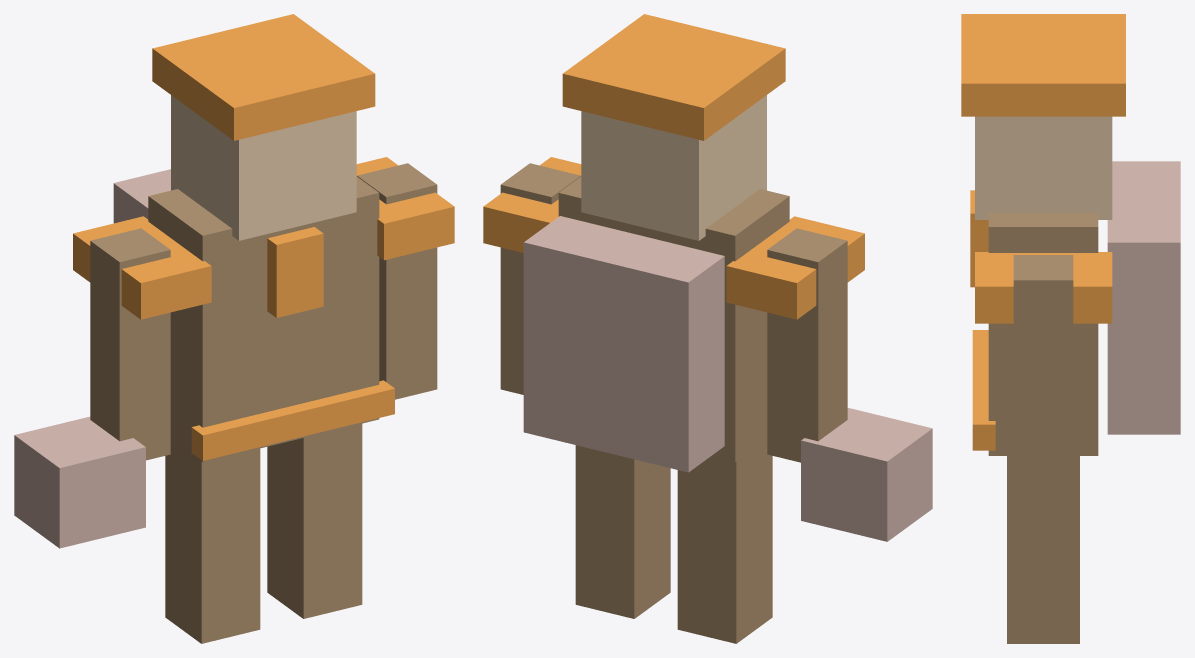
Rendered from 17_pax_frostrelay_fixer_near_catalog.glb.
3 views of the same model, side by side, from view 1: azimuth 30°, elevation 25°; view 2: azimuth 150°, elevation 25°; view 3: azimuth 270°, elevation 25° (orthographic).
Parts seen in each view (by area): view 1: Pax Frostrelay, Fixer near Catalog; view 2: Pax Frostrelay, Fixer near Catalog; view 3: Pax Frostrelay, Fixer near Catalog.
Boxes of the visible parts, x1,y1,x2,y2 form: Pax Frostrelay, Fixer near Catalog: [14, 14, 454, 643]; Pax Frostrelay, Fixer near Catalog: [483, 14, 932, 643]; Pax Frostrelay, Fixer near Catalog: [961, 14, 1180, 643].
Size of the model in its own units: 1.03 by 1.39 by 0.4978.
